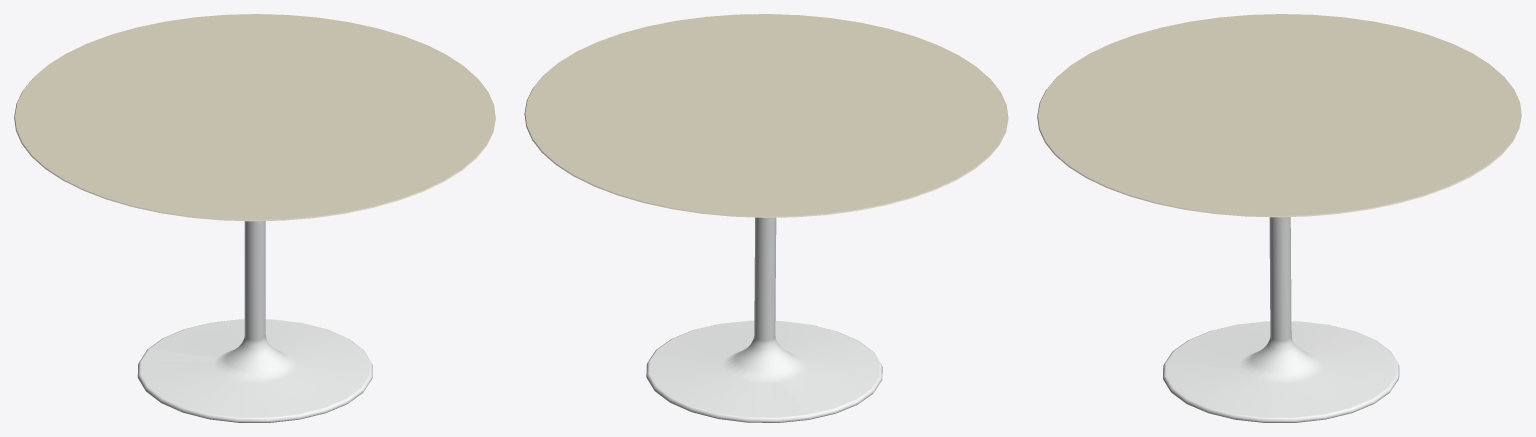
Rendered from RoundTable2.fbx.
3 views of the same model, side by side, from view 1: azimuth 30°, elevation 25°; view 2: azimuth 150°, elevation 25°; view 3: azimuth 270°, elevation 25° (orthographic).
Parts seen in each view (by area): view 1: RoundTable2; view 2: RoundTable2; view 3: RoundTable2.
Part boxes in pixels (box(x1,y1,x2,y2)): RoundTable2: box(14, 14, 495, 422); RoundTable2: box(524, 14, 1008, 422); RoundTable2: box(1037, 14, 1521, 422).
Size of the model in its own units: 122 by 72.37 by 122.
